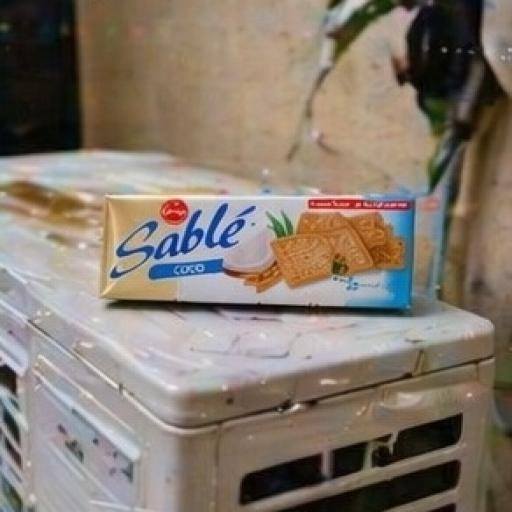sable: (86, 145, 480, 386)
